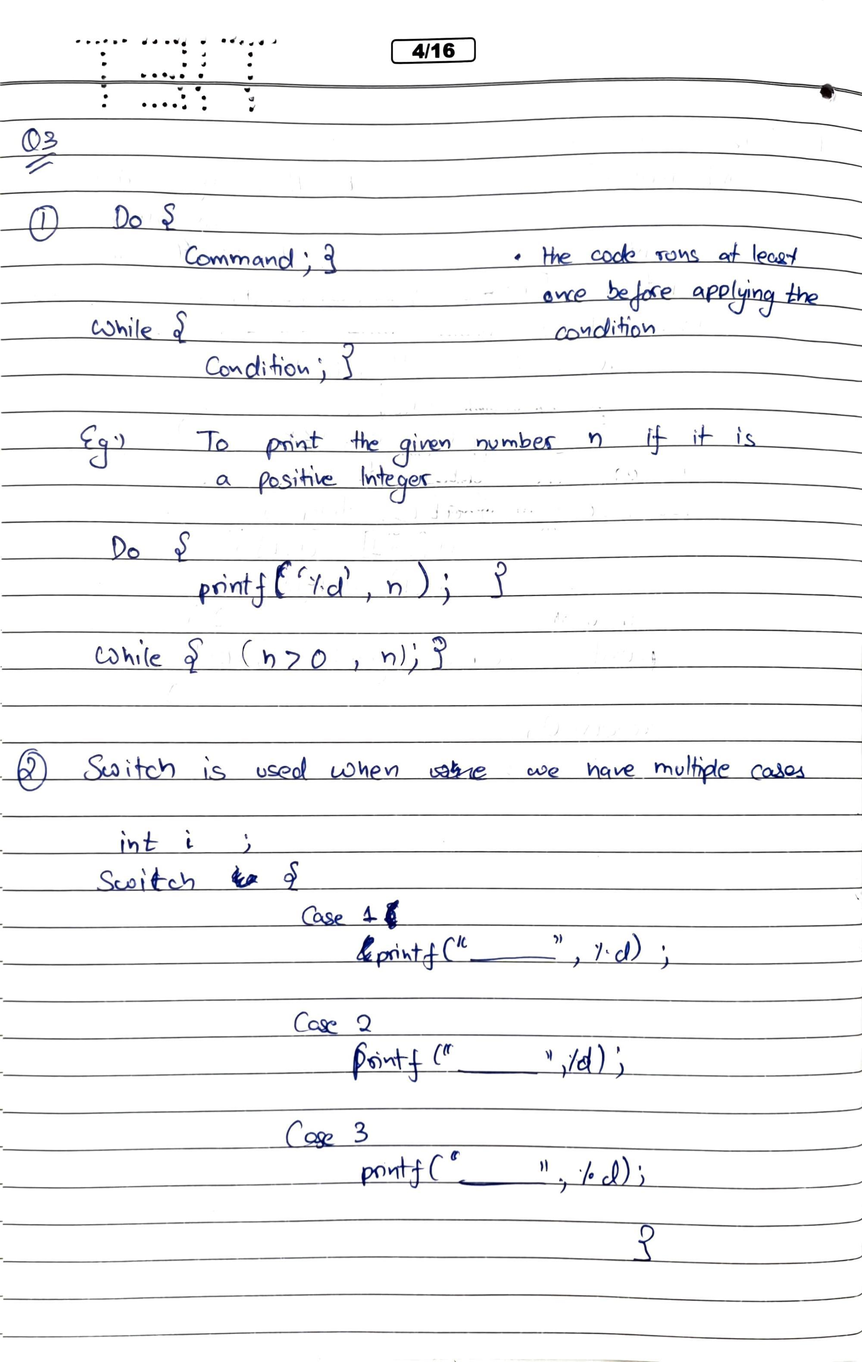cuttings: (429, 759, 488, 780), (231, 867, 259, 889), (356, 935, 376, 962), (386, 897, 400, 929)
